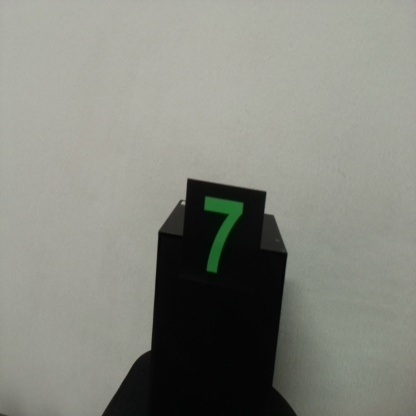id_7: (184, 181, 265, 316)
